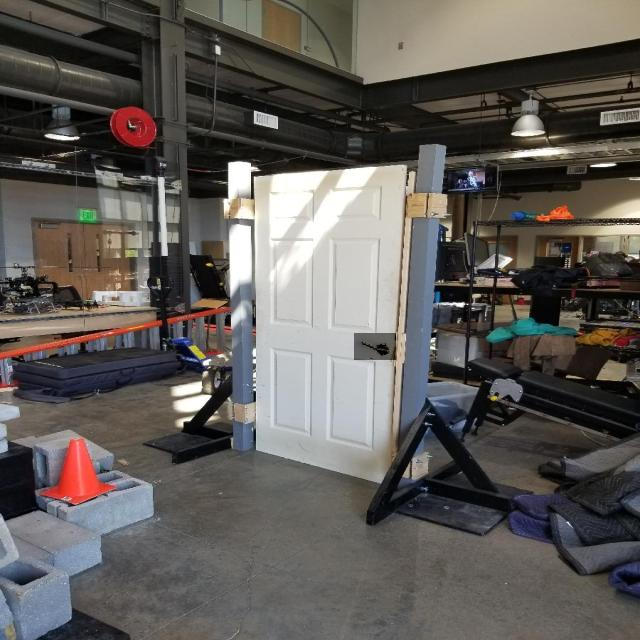doorhandle: (354, 333, 396, 360)
